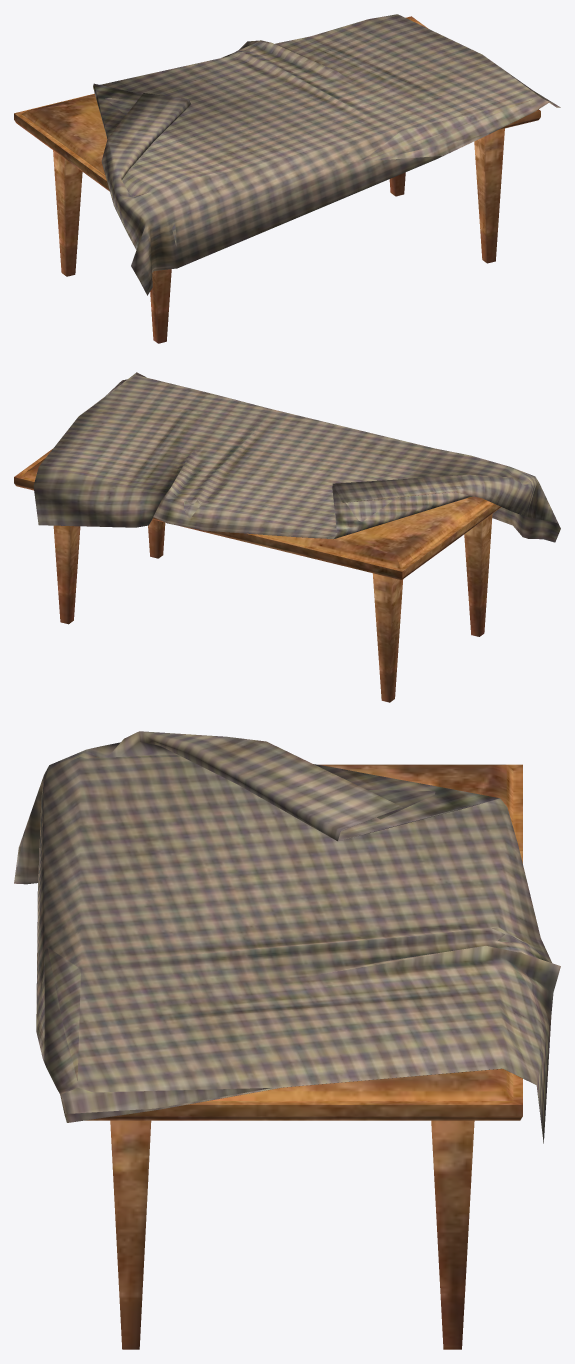
The model's file is dining_table.glb.
The picture shows the model from 3 angles, top to bottom: view 1: azimuth 30°, elevation 25°; view 2: azimuth 150°, elevation 25°; view 3: azimuth 270°, elevation 25°; orthographic projection. The views are drawn at different scales.
Parts seen in each view (by area): view 1: dining_table; view 2: dining_table; view 3: dining_table.
Boxes of the visible parts, <box> form: dining_table: <box>14,14,560,343</box>; dining_table: <box>14,372,560,702</box>; dining_table: <box>14,731,560,1349</box>.
Bounding box in the file's own units: 2.26 × 0.877 × 1.39.
Materials: 1 (1 with a texture image).
